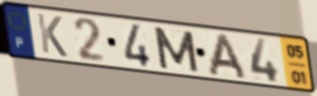2: (71, 16, 108, 64)
4: (247, 36, 283, 85), (123, 22, 153, 69)
A: (207, 32, 249, 81)
K: (35, 11, 70, 59)
M: (151, 25, 202, 74)
